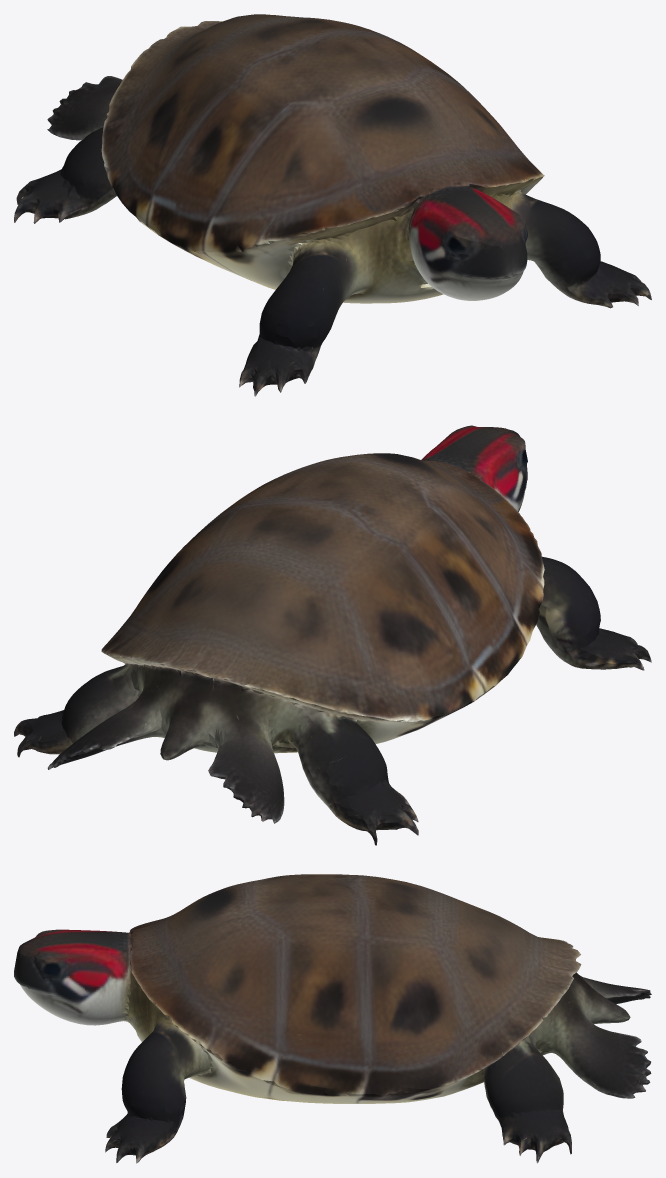
File: turtle.glb
3 renders of one model, top to bottom at view 1: azimuth 30°, elevation 25°; view 2: azimuth 150°, elevation 25°; view 3: azimuth 270°, elevation 25°, orthographic. The views are drawn at different scales.
Visible parts, largest first — view 1: model; view 2: model; view 3: model.
Boxes of the visible parts, bbox=[...] form: model: bbox=[14, 14, 651, 396]; model: bbox=[14, 425, 651, 845]; model: bbox=[14, 874, 651, 1163].
Size of the model in its own units: 1.23 by 0.6206 by 1.9.
1 material, 1 textured.
